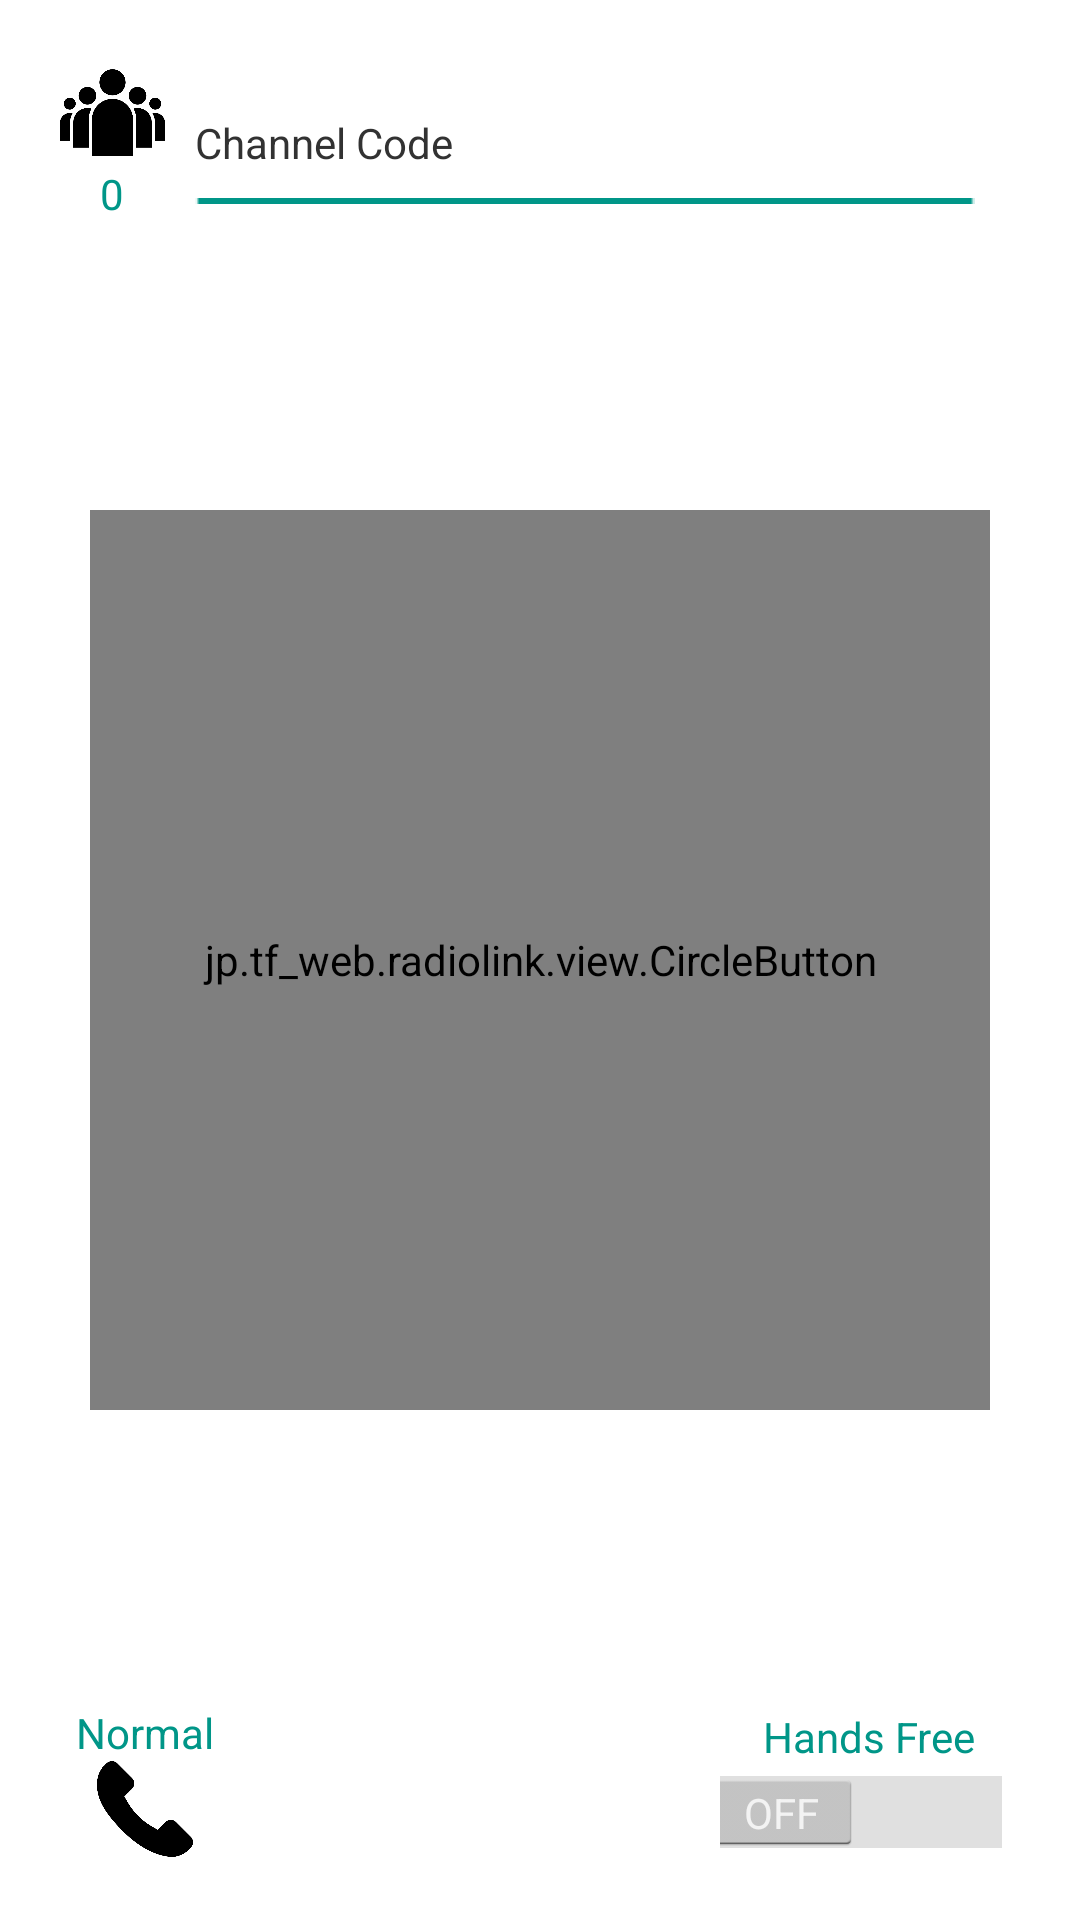

Named icons in this screenshot (1080*1920) and their bounding boxes, (x1, y1, x2, y2):
telephone: (97, 1761, 193, 1857)
